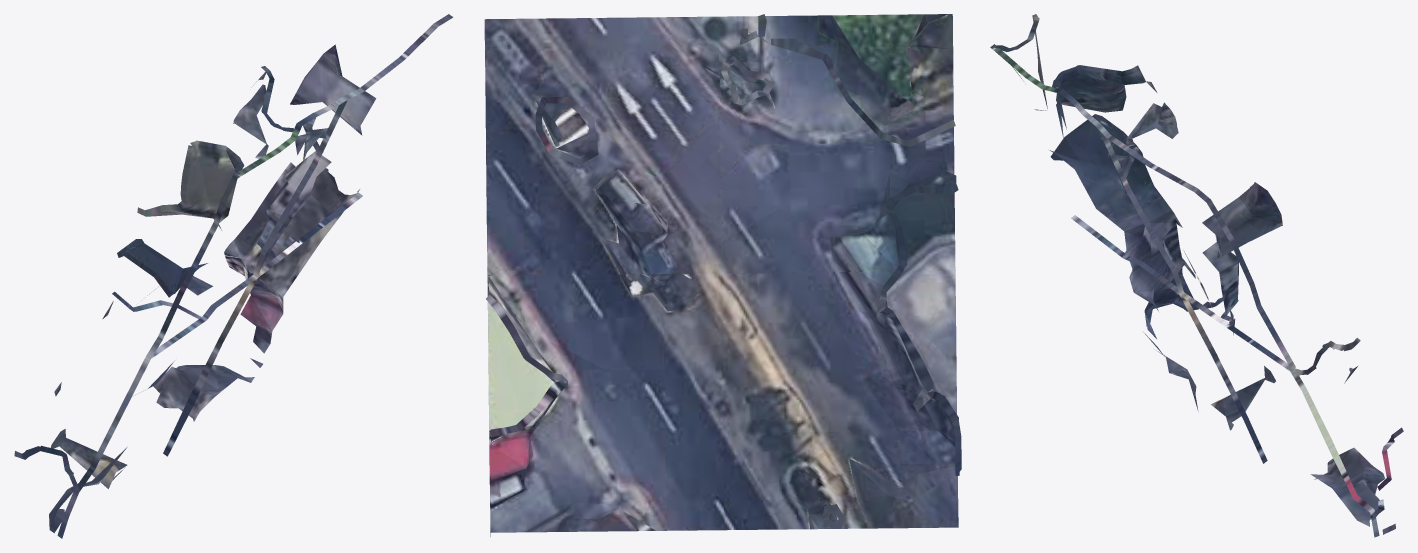
3 views of the same model, side by side, from view 1: azimuth 30°, elevation 25°; view 2: azimuth 150°, elevation 25°; view 3: azimuth 270°, elevation 25° (orthographic). The views are drawn at different scales.
Bounding box in the file's own units: 40.22 × 37.36 × 33.96.
1 material, 1 textured.
